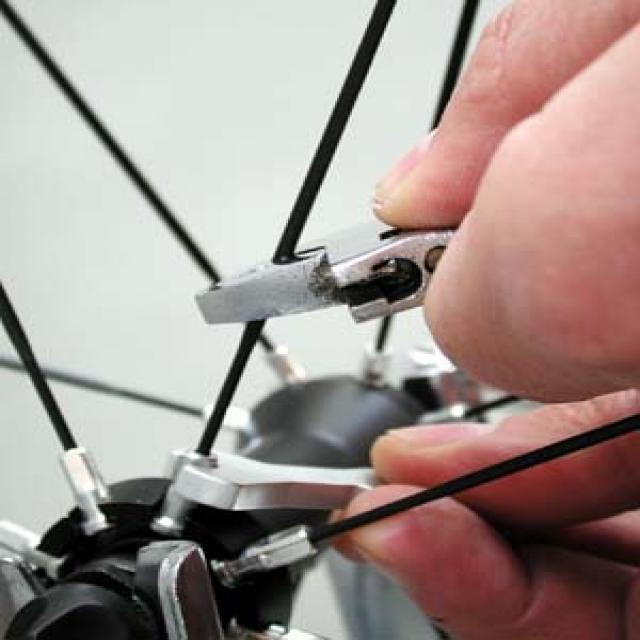wrench: (186, 179, 558, 335), (162, 438, 538, 518)
